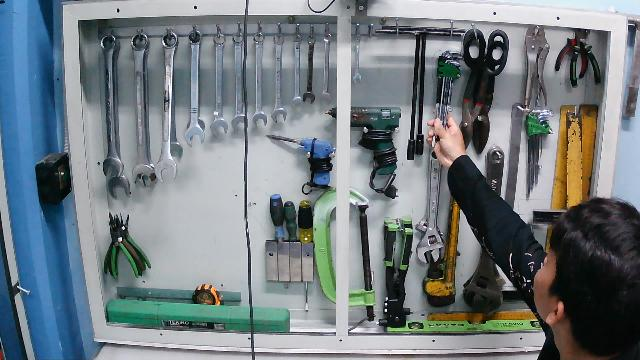kunci_l: (430, 44, 467, 154)
